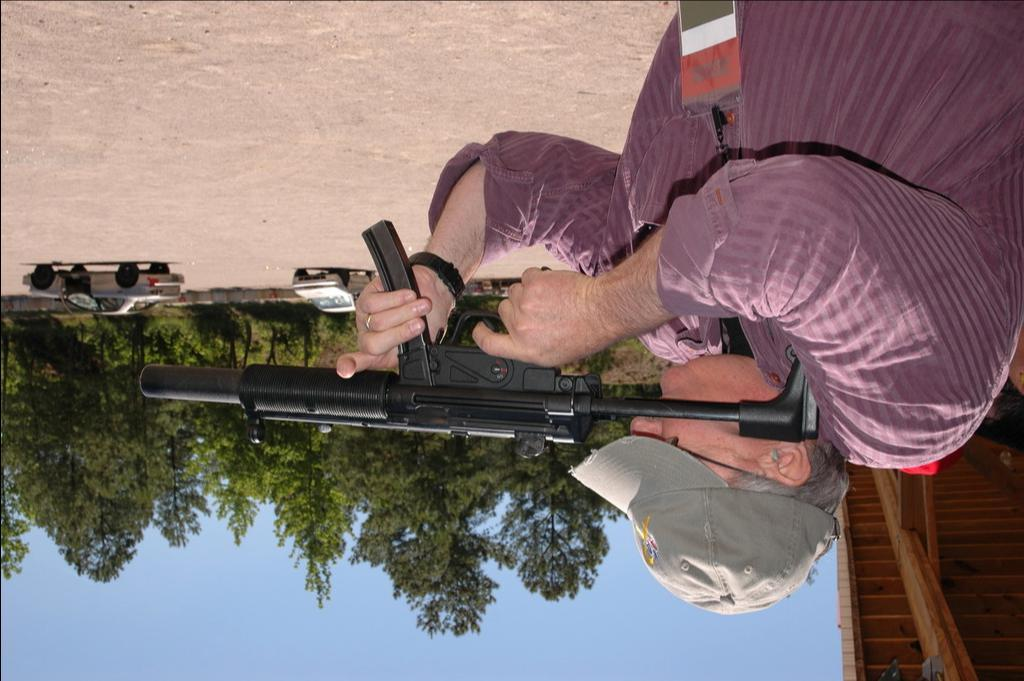gun: (136, 218, 808, 440)
